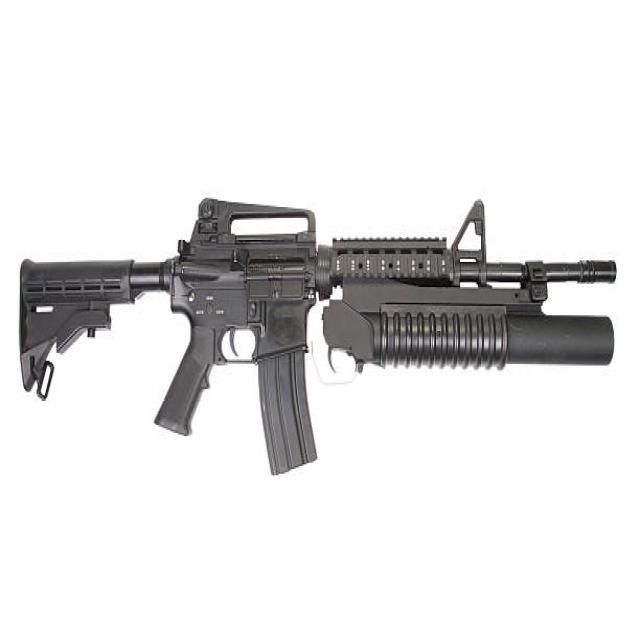rifle: (17, 185, 625, 481)
